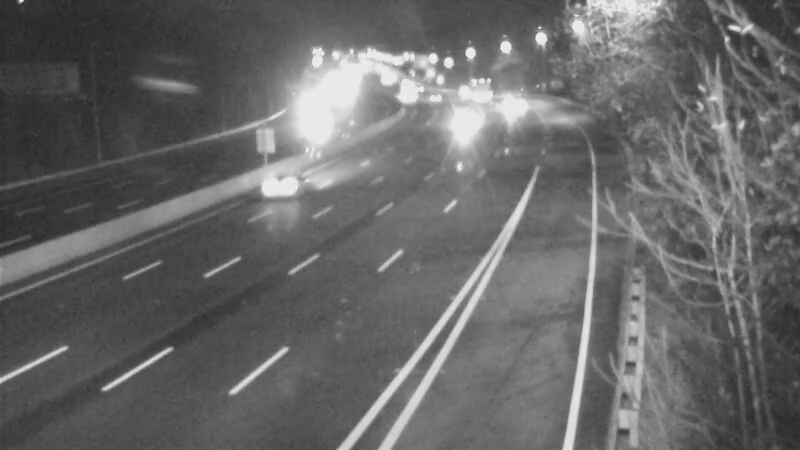vehicle: (231, 148, 311, 228), (456, 62, 506, 112), (409, 71, 459, 121), (381, 70, 431, 120), (481, 74, 531, 124), (433, 90, 483, 140), (276, 108, 326, 158)
